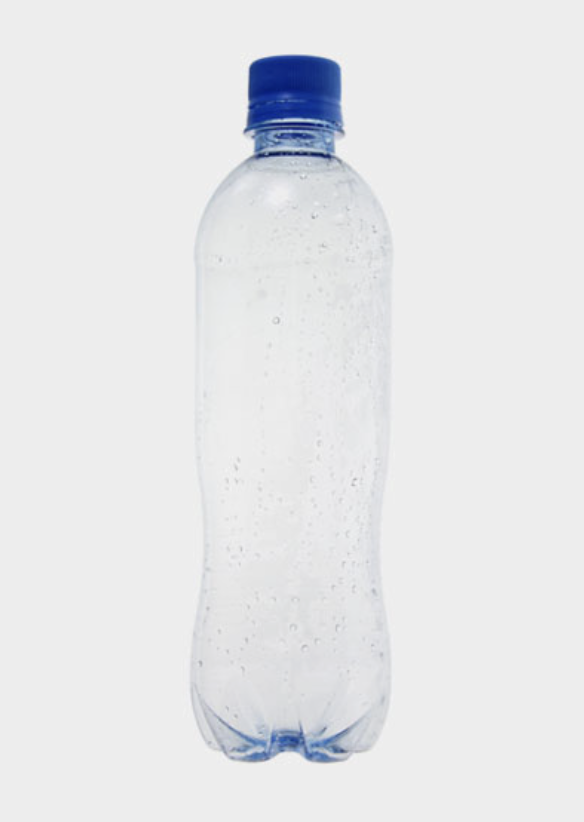bottle: (179, 52, 409, 772)
